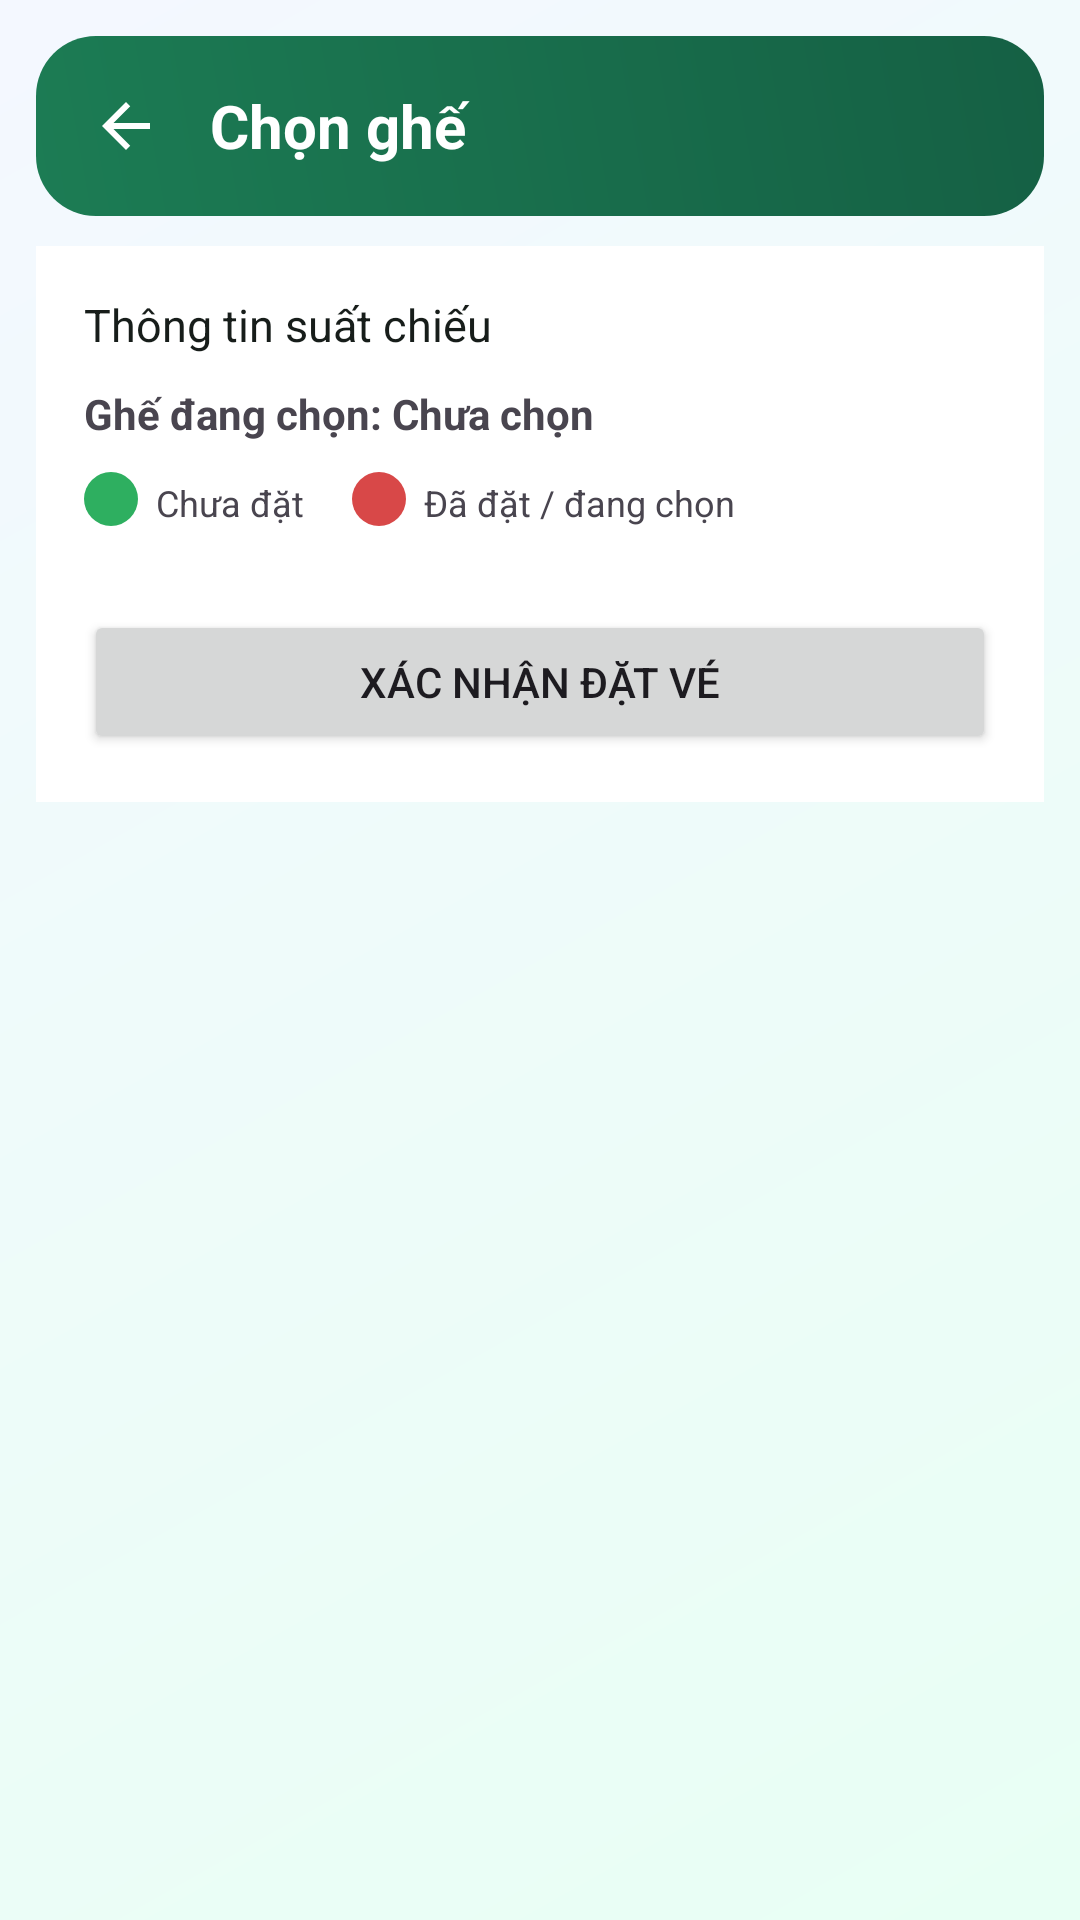

Where icons sit on this 1080px x 1920px app screen, as [left=x1, top=y1, right=x2, bottom=y2]:
Back: [left=102, top=102, right=150, bottom=150]
